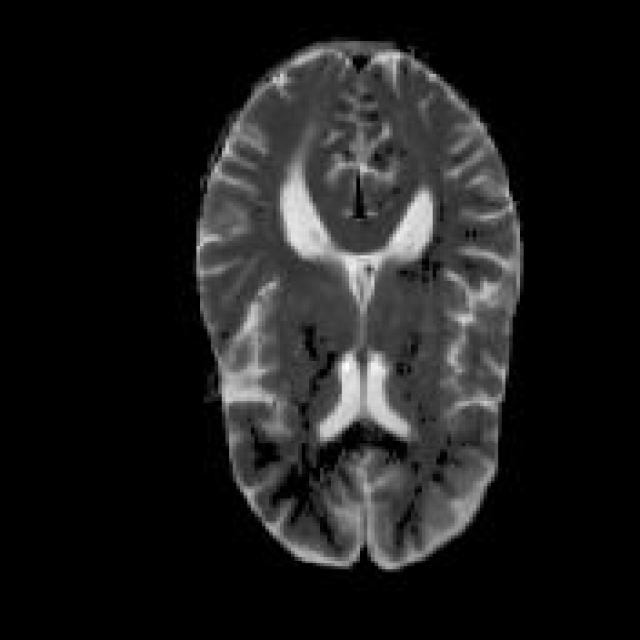parkinson: (189, 34, 524, 572)
